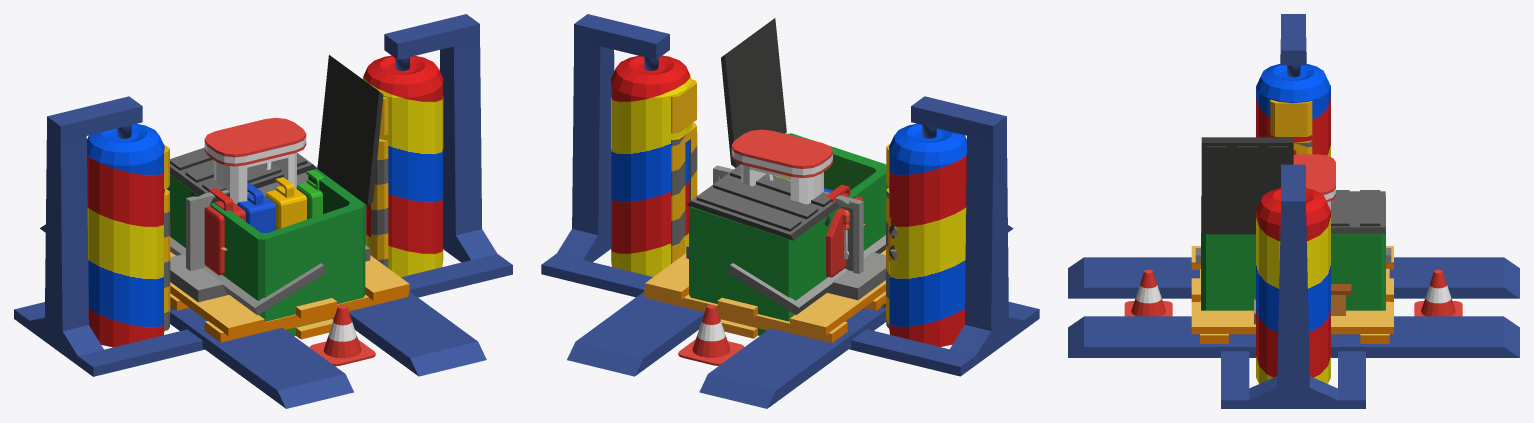
File: Car_Factory_Props.fbx
The picture shows the model from 3 angles, left to right: view 1: azimuth 30°, elevation 25°; view 2: azimuth 150°, elevation 25°; view 3: azimuth 270°, elevation 25°; orthographic projection. The views are drawn at different scales.
Visible parts, largest first — view 1: Washer, Trash, Washer_Rignht, Washer_Left, Cube.021, Repair_Container, Cube.008, Lift, Cones, Toolset; view 2: Washer, Trash, Washer_Rignht, Washer_Left, Repair_Container, Cube.008, Lift, Cube.021, Cones, Toolset; view 3: Washer, Trash, Washer_Left, Repair_Container, Washer_Rignht, Cones, Lift, Cube.008, Hr_Desk.
Boxes of the visible parts, x1,y1,x2,y2 form: Washer: (14,14,512,408); Trash: (166,55,383,336); Washer_Rignht: (87,123,164,347); Washer_Left: (363,55,443,277); Cube.021: (170,169,370,302); Repair_Container: (170,252,409,342); Cube.008: (204,118,306,204); Lift: (164,97,388,330); Cones: (309,305,375,366); Toolset: (186,166,317,270); Washer: (541,14,1039,408); Trash: (687,18,888,335); Washer_Rignht: (889,123,966,346); Washer_Left: (611,55,691,276); Repair_Container: (644,250,885,343); Cube.008: (731,129,832,204); Lift: (671,79,896,328); Cube.021: (686,175,885,300); Cones: (678,304,744,365); Toolset: (713,165,863,273); Washer: (1068,14,1519,408); Trash: (1195,137,1391,310); Washer_Left: (1256,188,1330,383); Repair_Container: (1191,246,1393,343); Washer_Rignht: (1256,63,1330,156); Cones: (1124,269,1462,316); Lift: (1270,99,1312,154); Cube.008: (1293,154,1335,210); Hr_Desk: (1331,284,1351,315).
Bounding box in the file's own units: 11.84 × 6.11 × 12.06.
